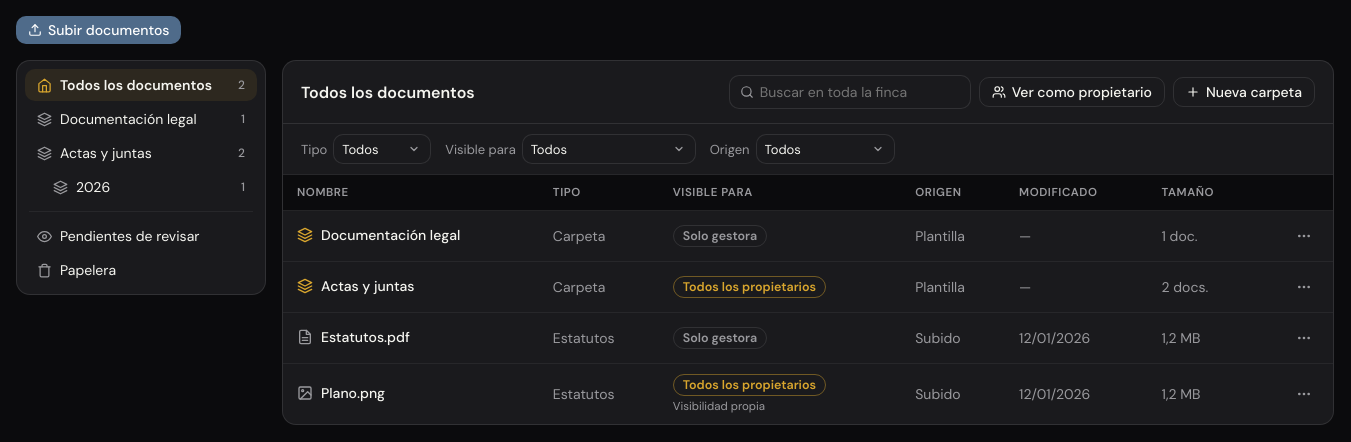
Test case: LibraryTabComponent › «Ver como propietario» hides what owners cannot see
The image size is (1351, 442).
Click the button "Ver como propietario".
click(1072, 92)  # box [979,77,1165,107]
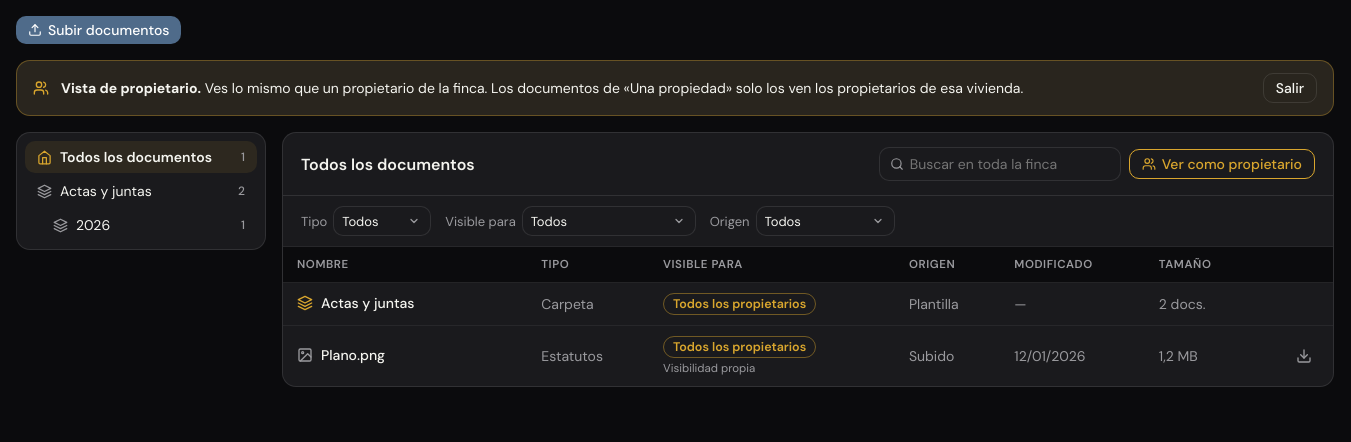
expect the text "Vista de propietario." is shown: met, box [61,79,201,97]
